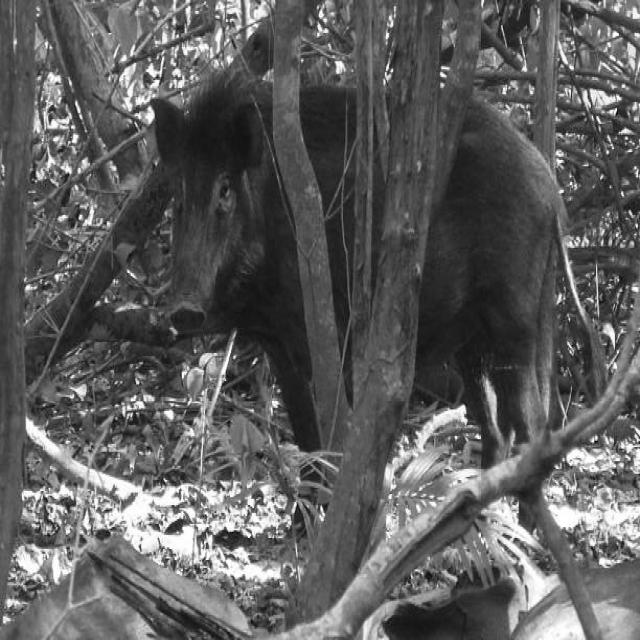boar: (154, 71, 321, 451), (417, 96, 566, 465), (301, 86, 357, 349)
